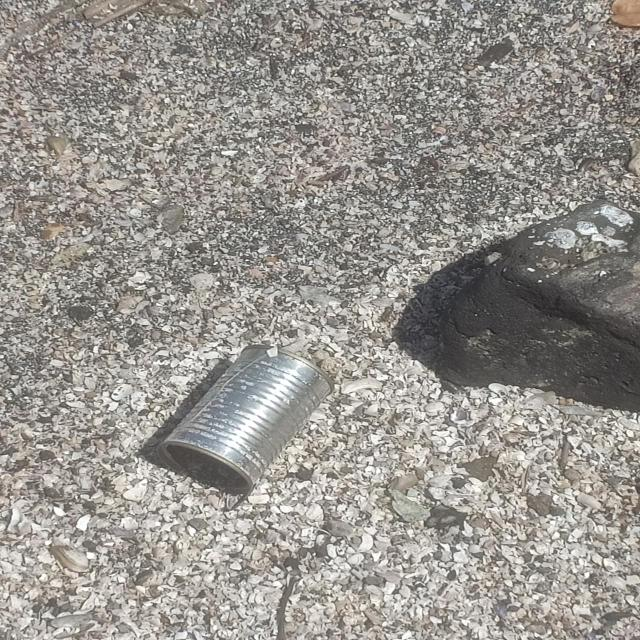metal_waste: (156, 345, 336, 497)
